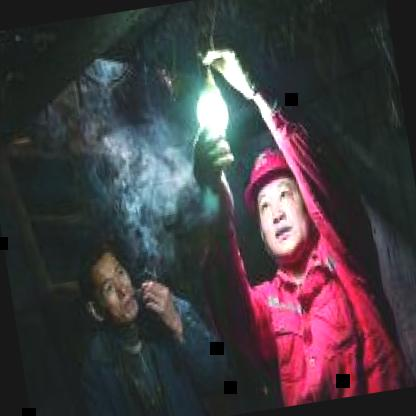head: (65, 230, 150, 338)
helmet: (233, 132, 322, 270)
